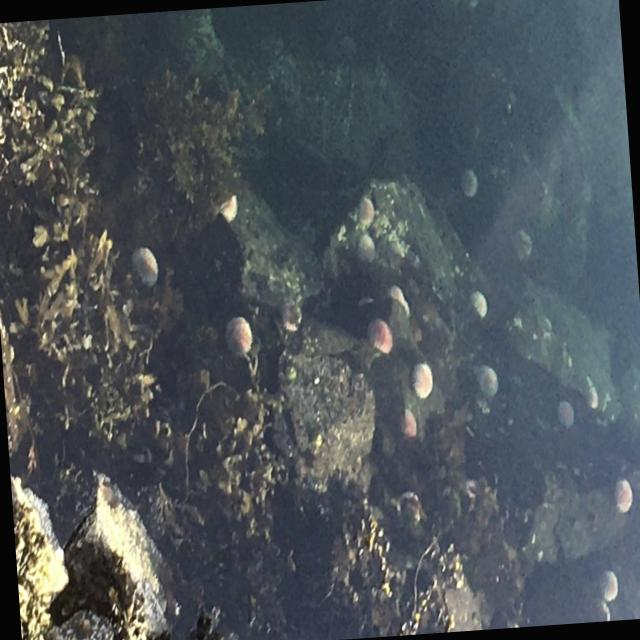Deniz Kestanesi: (223, 314, 253, 356), (128, 246, 159, 286), (366, 315, 394, 353), (410, 360, 434, 398), (395, 489, 421, 523), (612, 476, 634, 512), (475, 364, 499, 395), (390, 282, 410, 318), (599, 568, 619, 600), (510, 228, 532, 256), (468, 288, 488, 318), (218, 193, 239, 221), (356, 233, 376, 262), (280, 304, 302, 330), (458, 168, 478, 196), (356, 196, 374, 224), (556, 399, 574, 426), (402, 405, 416, 436), (584, 387, 598, 408), (598, 598, 610, 622), (467, 0, 481, 5)
